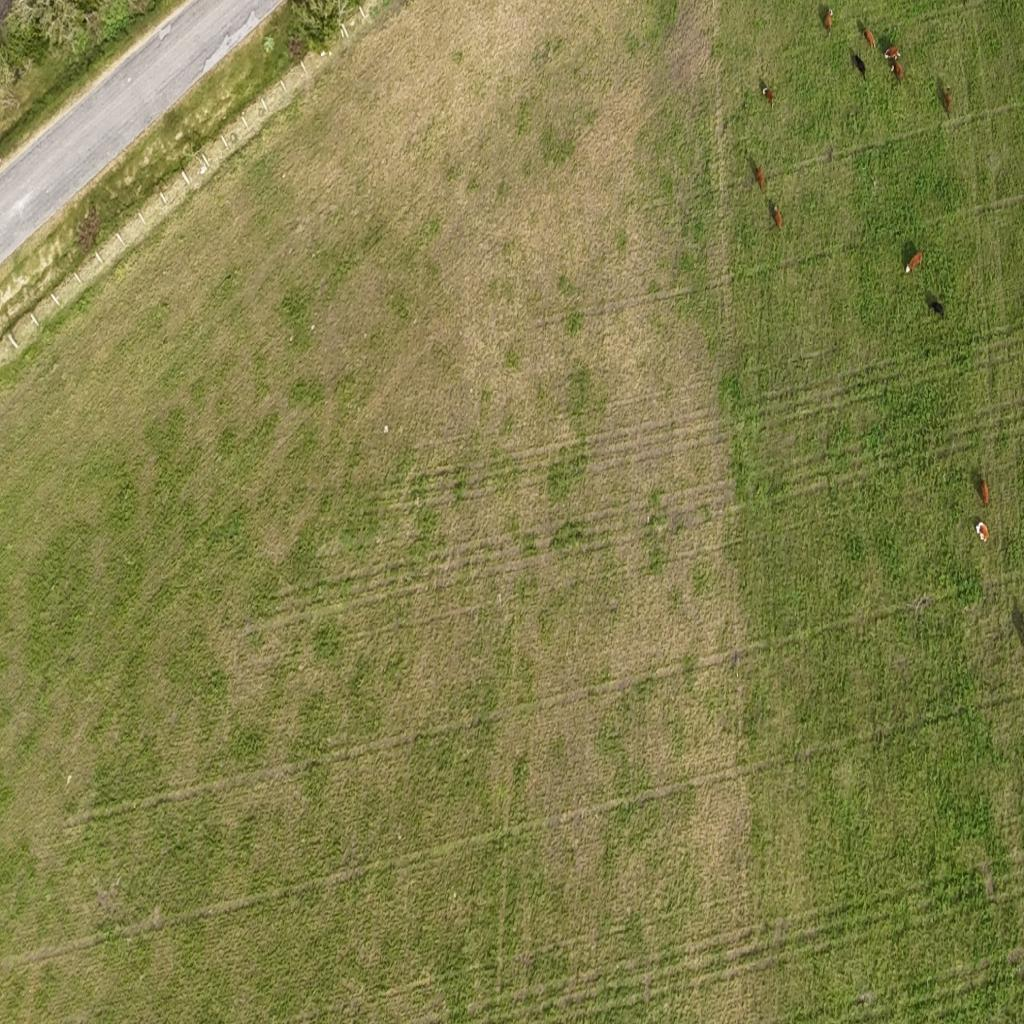cow: (974, 516, 990, 547), (926, 292, 944, 318), (851, 49, 866, 80), (904, 251, 923, 275), (761, 83, 775, 111), (890, 59, 904, 85), (863, 27, 877, 51), (980, 478, 990, 508), (824, 8, 834, 37), (772, 204, 782, 231), (755, 166, 765, 192), (944, 86, 952, 118), (885, 46, 902, 61)
